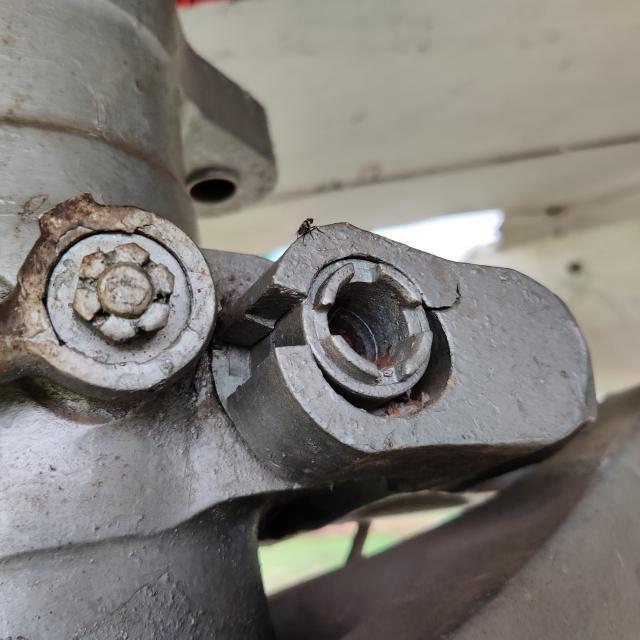crack: (425, 275, 472, 320)
